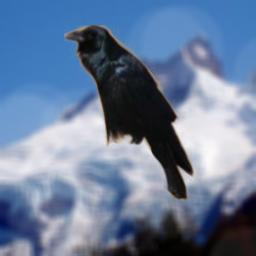Crow: (64, 25, 194, 201)
